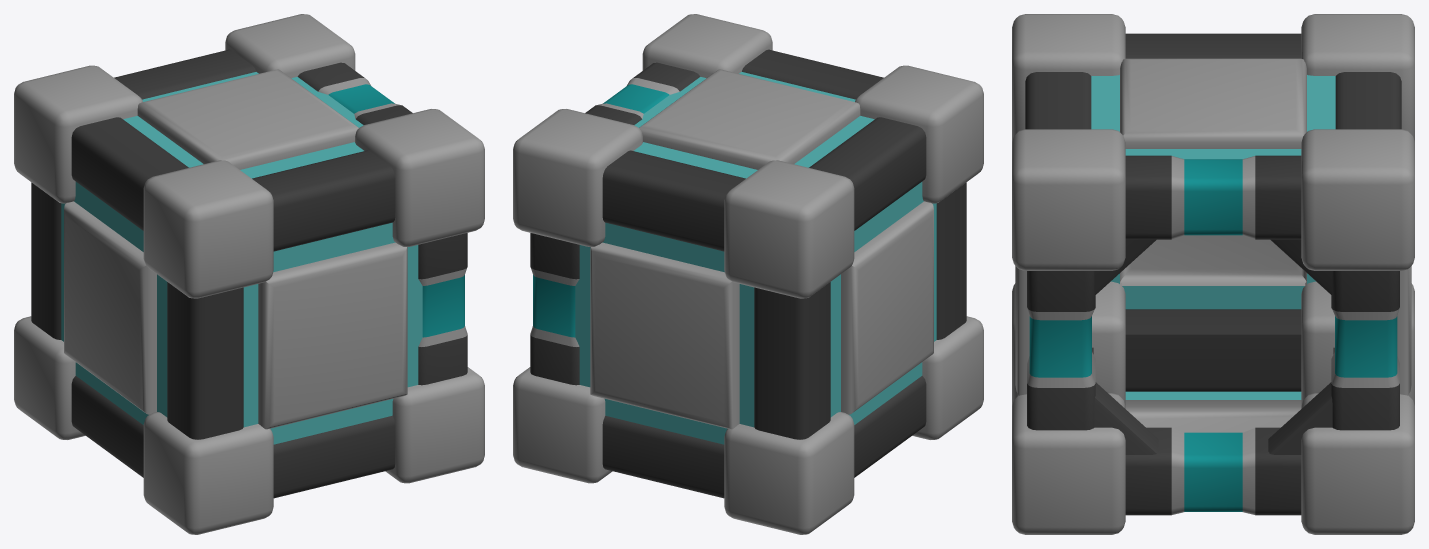
Rendered from Boxes_Update.fbx.
3 renders of one model, left to right at view 1: azimuth 30°, elevation 25°; view 2: azimuth 150°, elevation 25°; view 3: azimuth 270°, elevation 25°, orthographic. The views are drawn at different scales.
Parts seen in each view (by area): view 1: Plane; view 2: Plane; view 3: Plane.
Boxes of the visible parts, <box> form: Plane: <box>14,14,484,534</box>; Plane: <box>513,14,983,534</box>; Plane: <box>1012,14,1414,534</box>.
Size of the model in its own units: 220 by 231 by 230.
